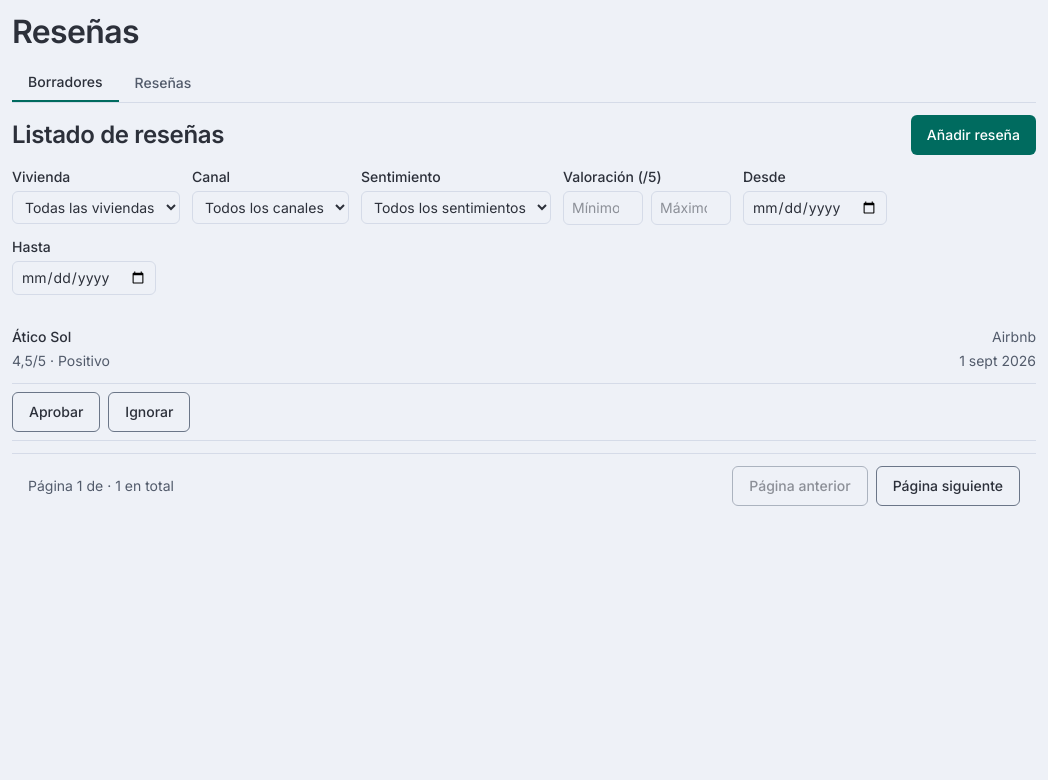
Test: ReviewsView — the shared error banner (R3.5, R3.6, R3.7) › shows a 403 as an error, never as success
Click the button "Aprobar" at (56, 412), box [12,392,100,432]
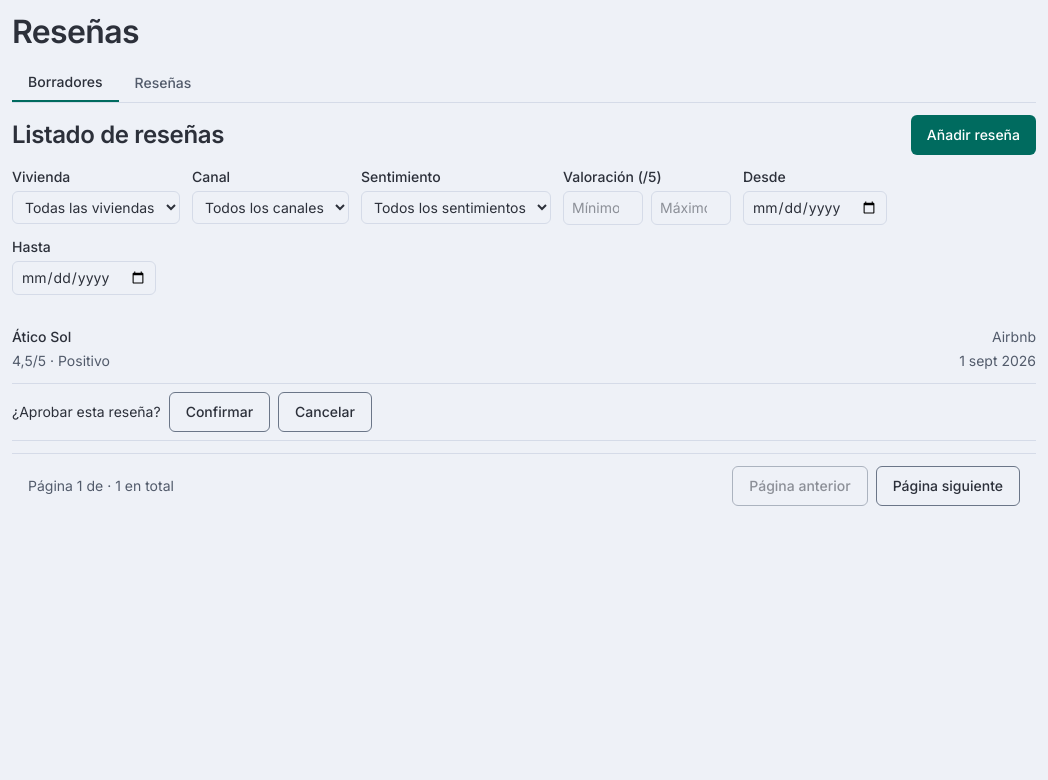
Click the button "Confirmar" at (219, 412), box [169,392,270,432]
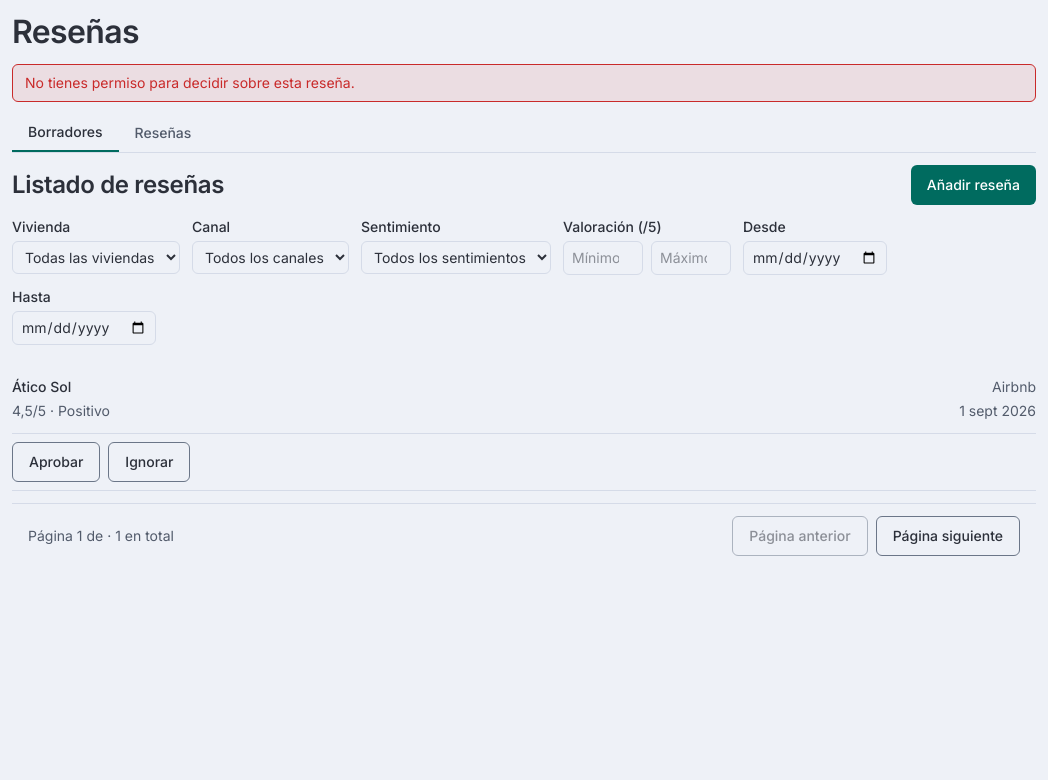
Check: the message reads "No tienes permiso para decidir sobre esta reseña.", box [25,74,355,91]
